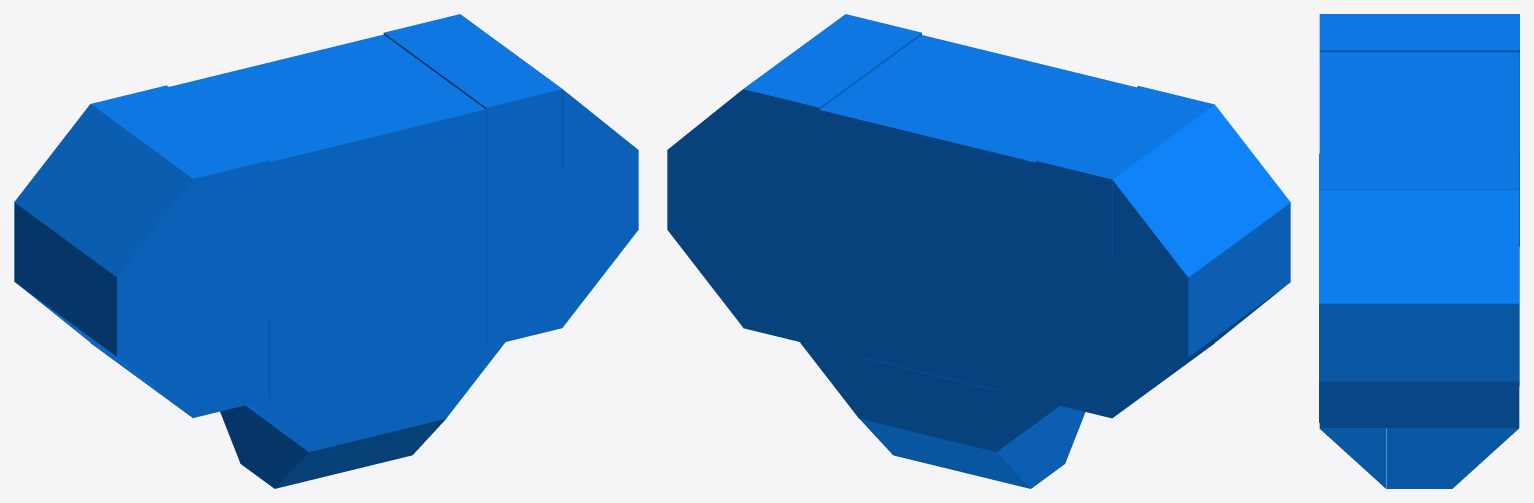
File: Vessel beginnings.dae
3 views of the same model, side by side, from view 1: azimuth 30°, elevation 25°; view 2: azimuth 150°, elevation 25°; view 3: azimuth 270°, elevation 25° (orthographic). The views are drawn at different scales.
Parts seen in each view (by area): view 1: node; view 2: node; view 3: node.
Boxes of the visible parts, <box> form: node: <box>14,14,638,488</box>; node: <box>667,14,1290,488</box>; node: <box>1319,14,1519,488</box>.
Bounding box in the file's own units: 39.72 × 26.42 × 13.57.
